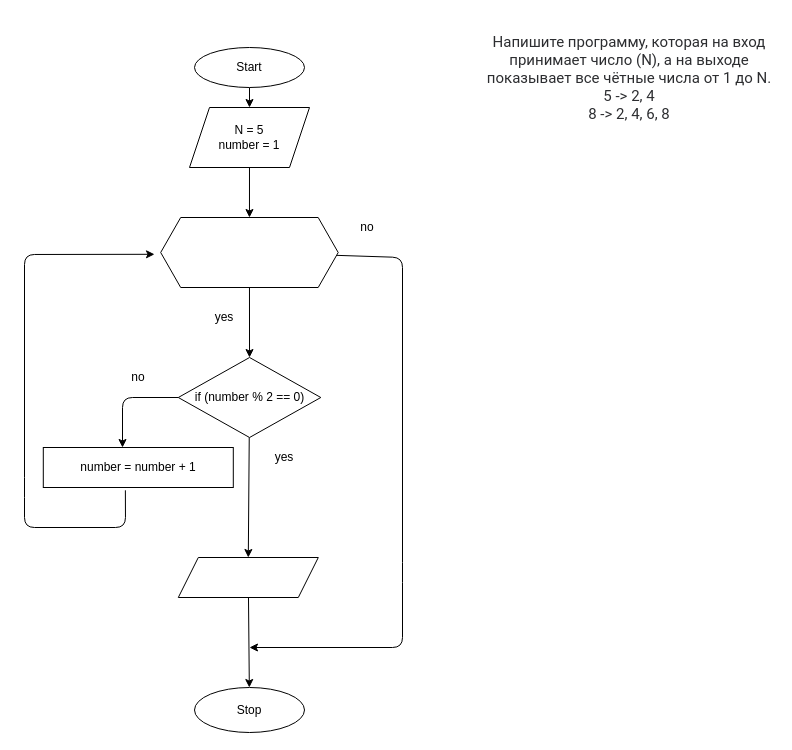
This 792x750 diagram has some shape labels left out. Here are the shapes that lost their labels. From the top down, the centre of each, then its label:
At [249,252]: "while (number <= N)".
At [247,577]: "Вывод number".
